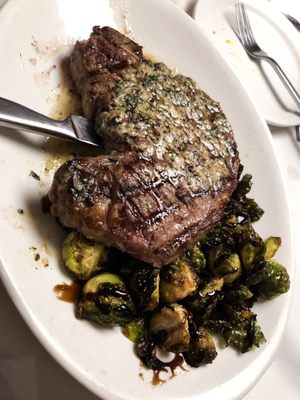burger: (233, 1, 300, 120), (0, 96, 104, 150)
